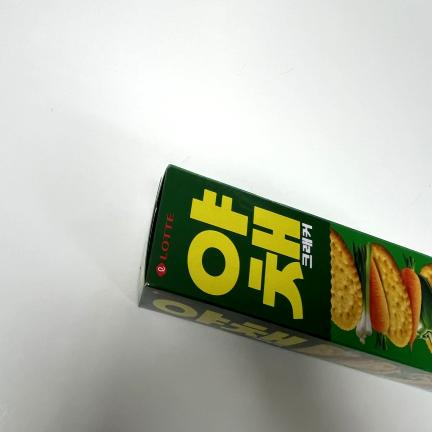cracker_vege: (138, 164, 432, 392)
